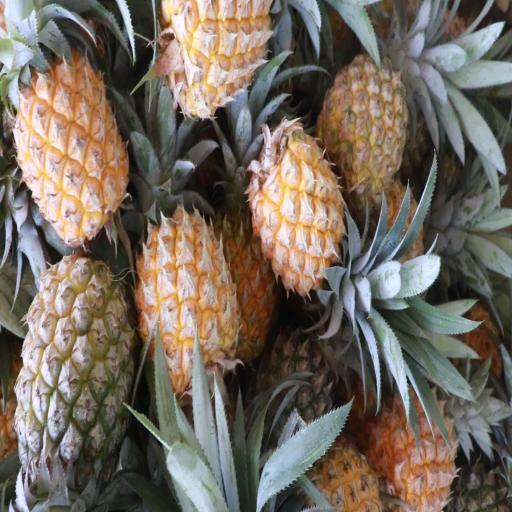------------------------------: (20, 261, 132, 482), (316, 60, 405, 204)
Pineapple - v8 v1: (14, 56, 124, 238), (137, 214, 237, 390), (251, 120, 342, 290), (156, 0, 271, 116), (371, 380, 456, 512), (217, 215, 272, 356)
